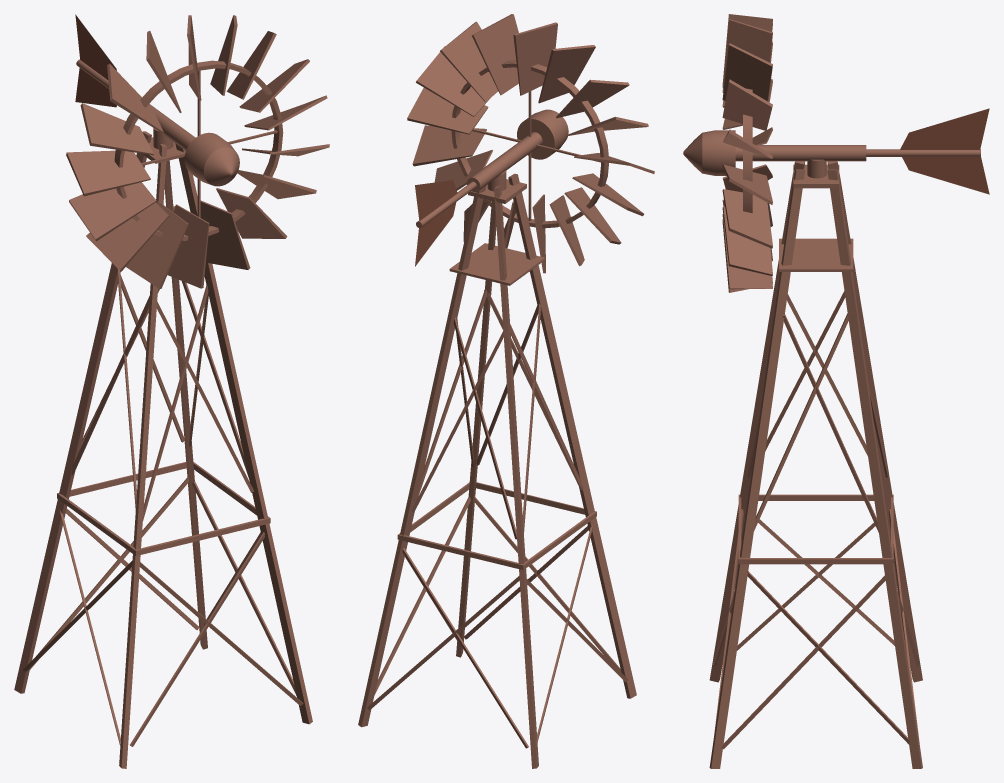
File: windmill.glb
3 views of the same model, side by side, from view 1: azimuth 30°, elevation 25°; view 2: azimuth 150°, elevation 25°; view 3: azimuth 270°, elevation 25° (orthographic). The views are drawn at different scales.
Parts seen in each view (by area): view 1: Old Farm Windmill_0; view 2: Old Farm Windmill_0; view 3: Old Farm Windmill_0.
Part boxes in pixels (x1=…): Old Farm Windmill_0: x1=14, y1=14, x2=329, y2=768; Old Farm Windmill_0: x1=358, y1=14, x2=654, y2=768; Old Farm Windmill_0: x1=683, y1=14, x2=989, y2=768.
Size of the model in its own units: 3.07 by 8.48 by 3.38.
